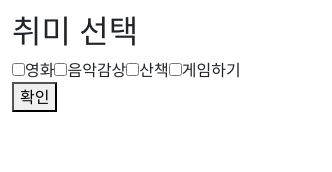
Test case: HobbiesExam › 4. 확인 버튼 클릭 시 선택된 취미가 결과에 표시된다
The width and height of the screenshot is (332, 172).
Click the checkbox showing "산책". click: (133,70)
box: [126,63,139,76]
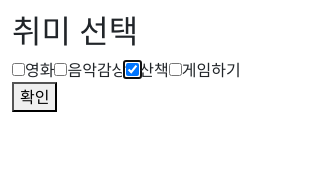
Click the button "확인". click: (35,97)
box: [12,82,58,112]
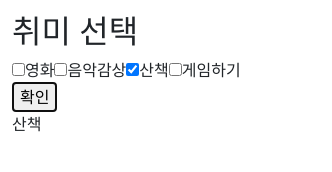
Result: the text with test id "result" reads "산책" at [12,113,42,135]
